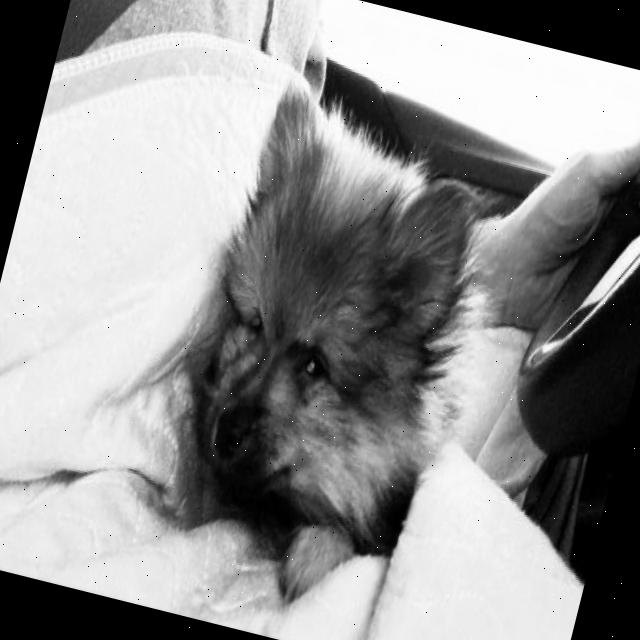pomeranian_dog: (134, 55, 528, 618)
